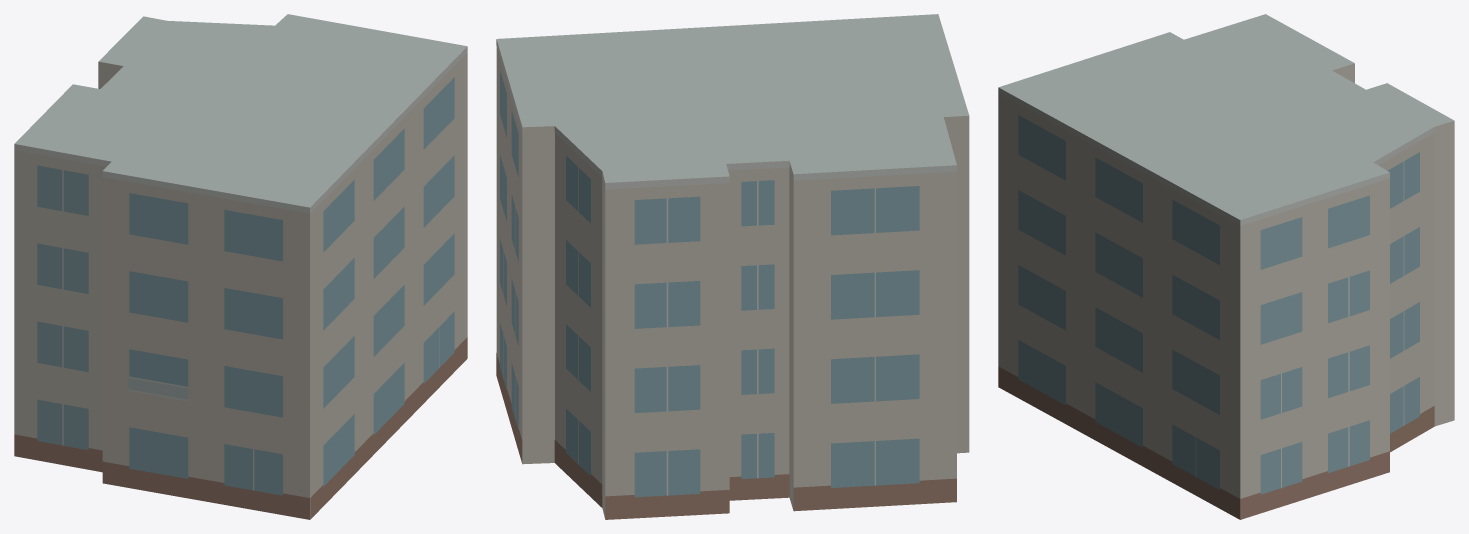
The model's file is survey-upis-32660688.glb.
The picture shows the model from 3 angles, left to right: view 1: azimuth 30°, elevation 25°; view 2: azimuth 150°, elevation 25°; view 3: azimuth 270°, elevation 25°; orthographic projection. The views are drawn at different scales.
Parts seen in each view (by area): view 1: survey-upis-32660688.tmp; view 2: survey-upis-32660688.tmp; view 3: survey-upis-32660688.tmp.
Part boxes in pixels (box(x1,y1,x2,y2)): survey-upis-32660688.tmp: box(14, 14, 467, 519); survey-upis-32660688.tmp: box(496, 14, 969, 519); survey-upis-32660688.tmp: box(998, 14, 1454, 519).
Bounding box in the file's own units: 18.51 × 12.55 × 17.32.
